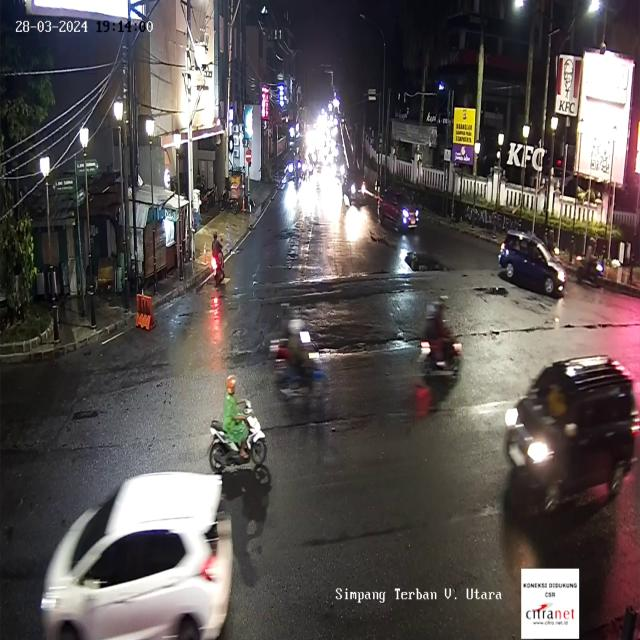car: (41, 470, 232, 640), (502, 353, 637, 512), (497, 234, 568, 301), (377, 190, 420, 235), (341, 170, 365, 207)
motorcycle: (271, 299, 326, 399), (208, 380, 266, 472), (416, 292, 462, 376), (211, 230, 226, 290)
